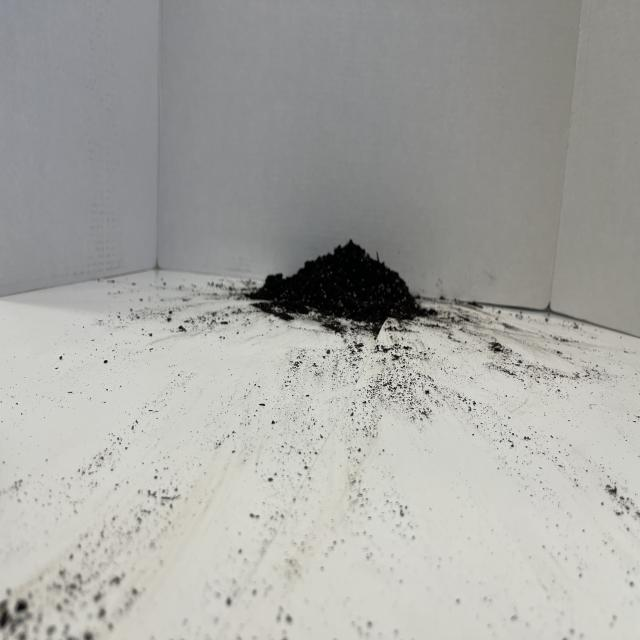soil: (247, 236, 432, 332)
